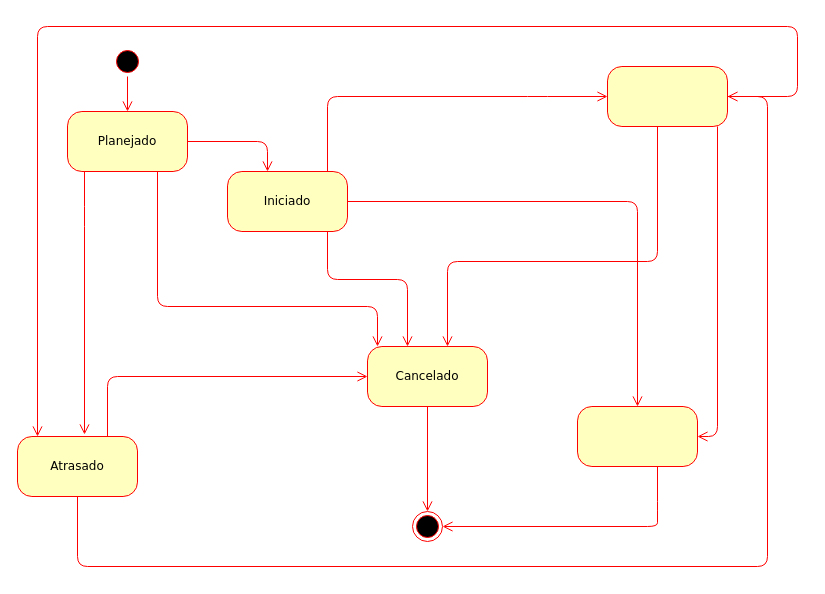
Image size: 825x594. Some labels were removed from this diagram. Each missing label, with the centre of its shape:
"Concluído" goes at point (637, 436).
"Em andamento" goes at point (667, 96).
